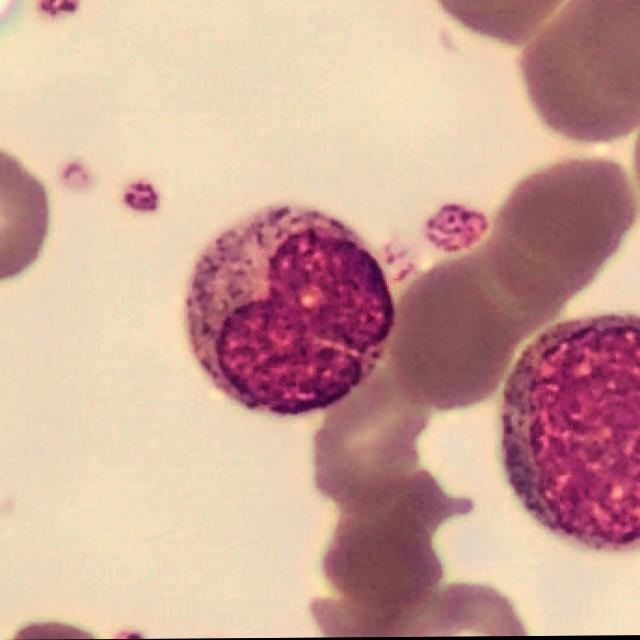Mielocito: (499, 315, 640, 555)
